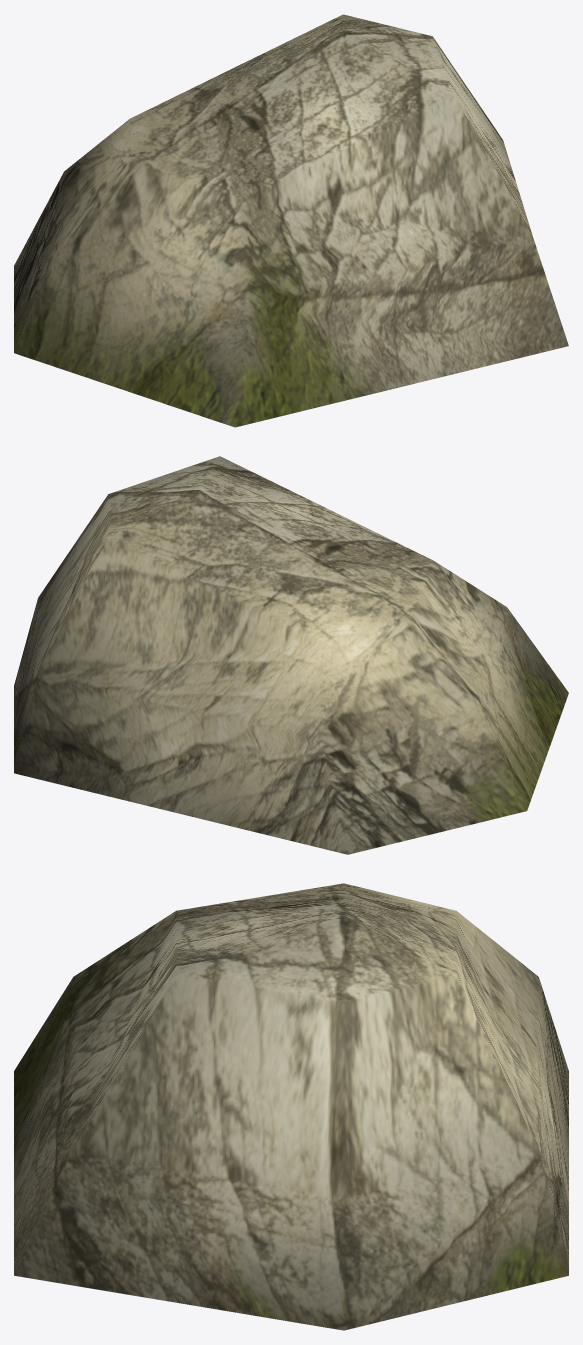
Rendered from rock3.fbx.
3 views of the same model, one above another, from view 1: azimuth 30°, elevation 25°; view 2: azimuth 150°, elevation 25°; view 3: azimuth 270°, elevation 25° (orthographic). The views are drawn at different scales.
Parts seen in each view (by area): view 1: pSphere4; view 2: pSphere4; view 3: pSphere4.
Part boxes in pixels (box(x1,y1,x2,y2)): pSphere4: box(14, 14, 568, 427); pSphere4: box(14, 456, 568, 854); pSphere4: box(14, 883, 568, 1330).
Size of the model in its own units: 8.49 by 3.79 by 6.34.
1 material, 1 textured.
